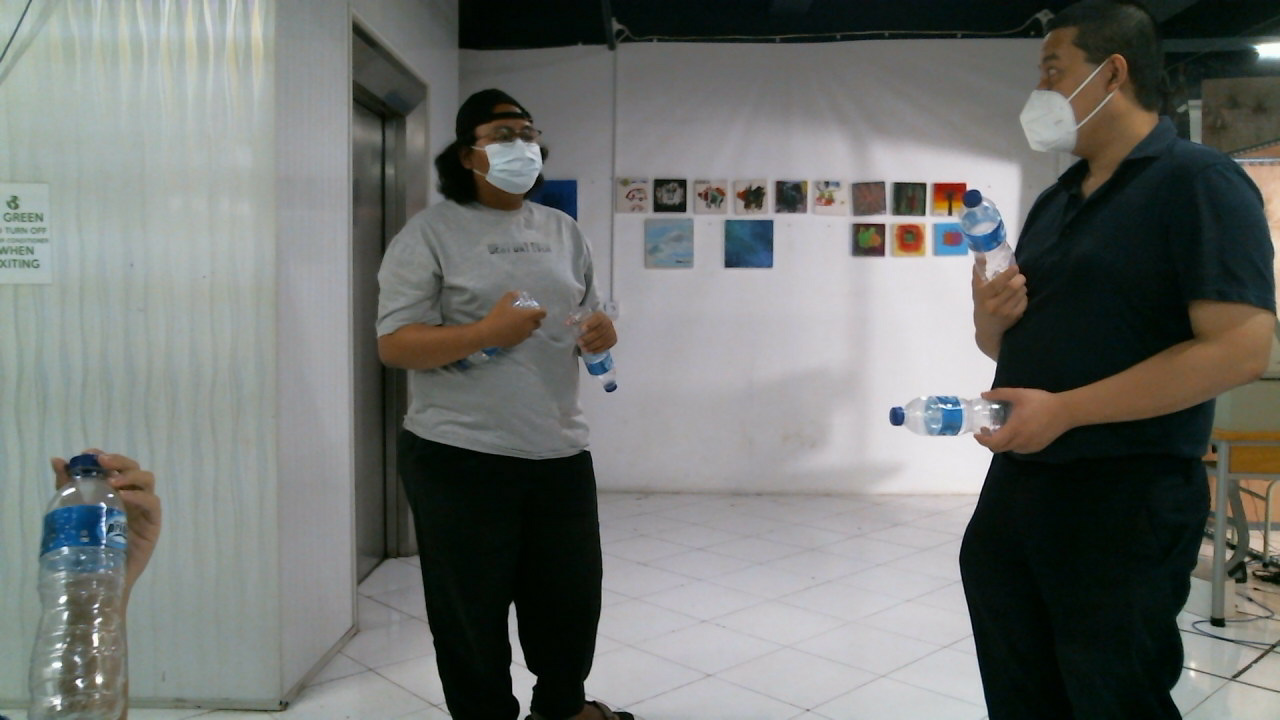Bottle: (30, 457, 128, 720), (960, 185, 1021, 280), (890, 393, 1013, 436)
